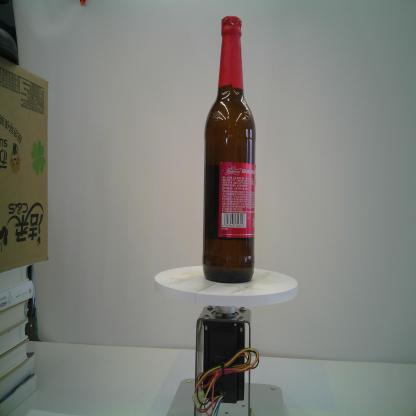Alcohol: (202, 15, 257, 284)
